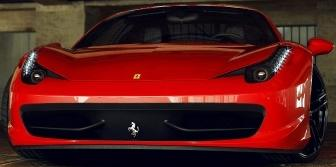front_view: (18, 44, 311, 152)
headlight: (225, 37, 301, 91)
